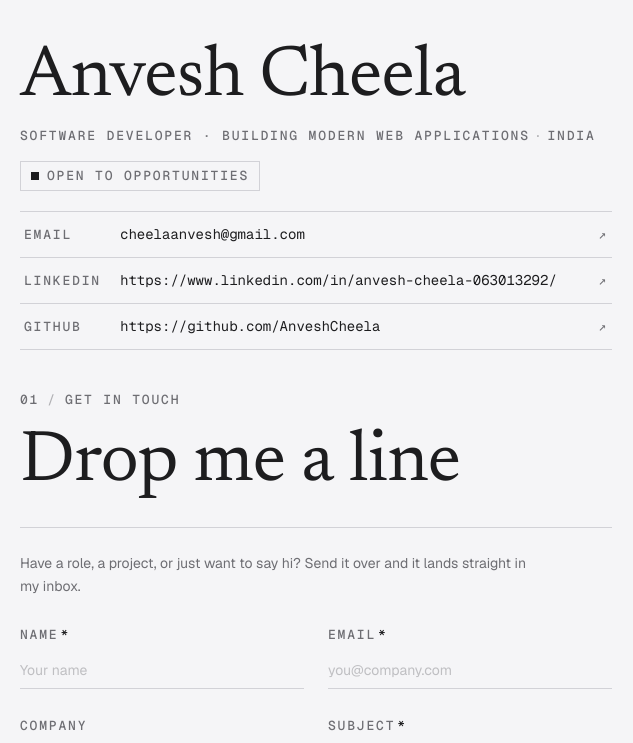
Test case: ContactApp submission › POSTs to /api/contact and shows the success state
The width and height of the screenshot is (633, 743).
In the field with placeholder "Your name": (162, 670) [20,652,304,688], type "Jordan"
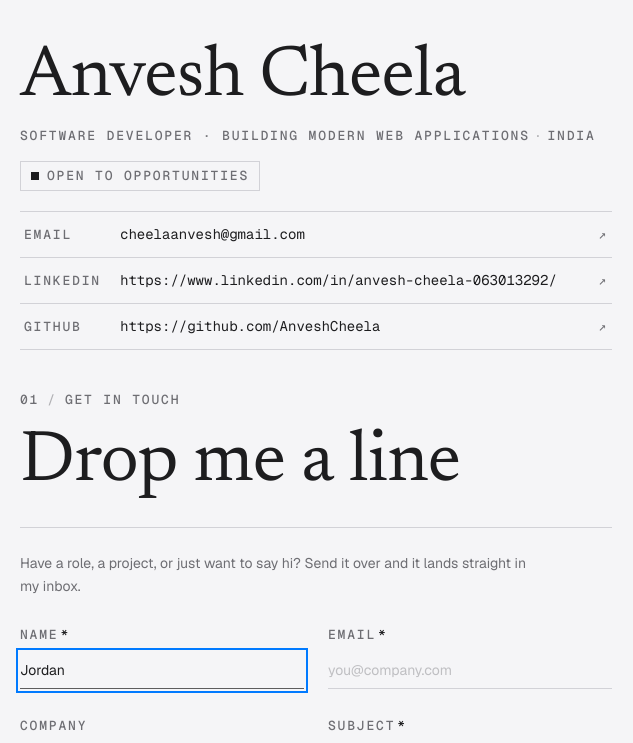
In the field with placeholder "you@company.com": (470, 670) [328,652,612,688], type "jordan@acme.com"
(page scrolled)
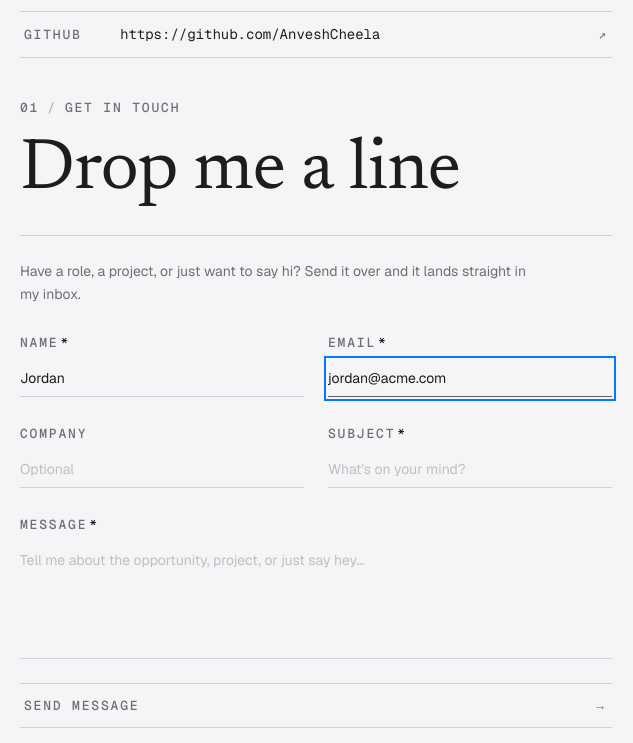
In the field with placeholder "What's on your mind?": (470, 469) [328,450,612,488], type "Founding engineer role"
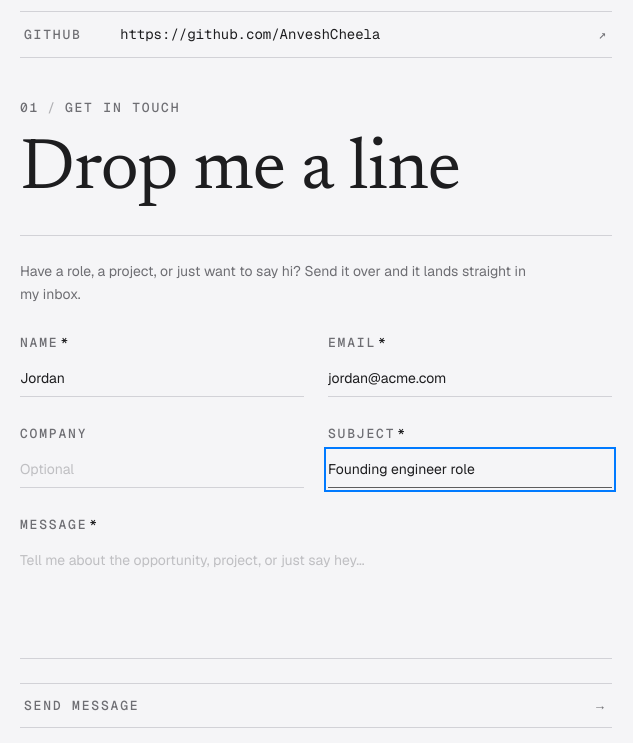
In the text box with placeholder "Tell me about the opportunity, project, or just say hey...": (316, 600) [20,542,612,658], type "We are hiring and your MCP work looks like a fit."
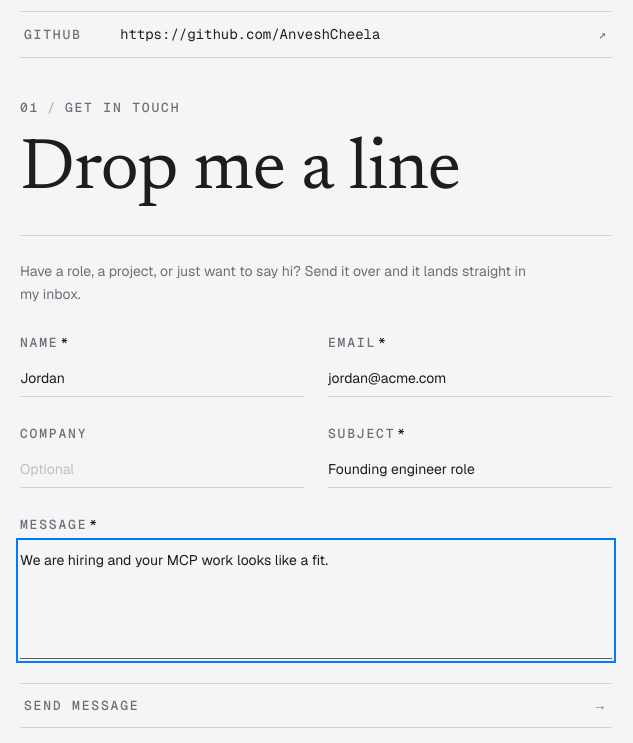
Click the button "Send message →": (82, 705) [20,684,612,727]
(page scrolled)
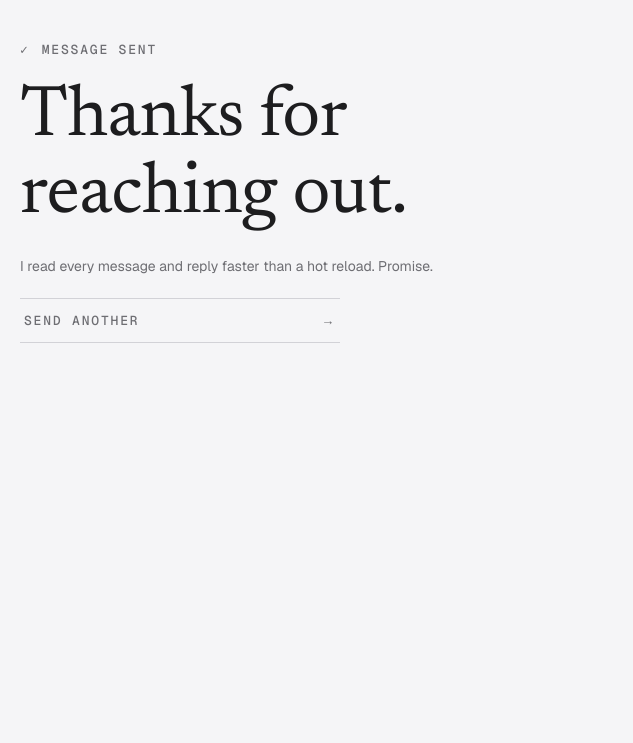
Now the heading "Thanks for reaching out." is shown, box [20,82,407,231]
Now the button "Send another →" is shown, box [20,299,340,342]
